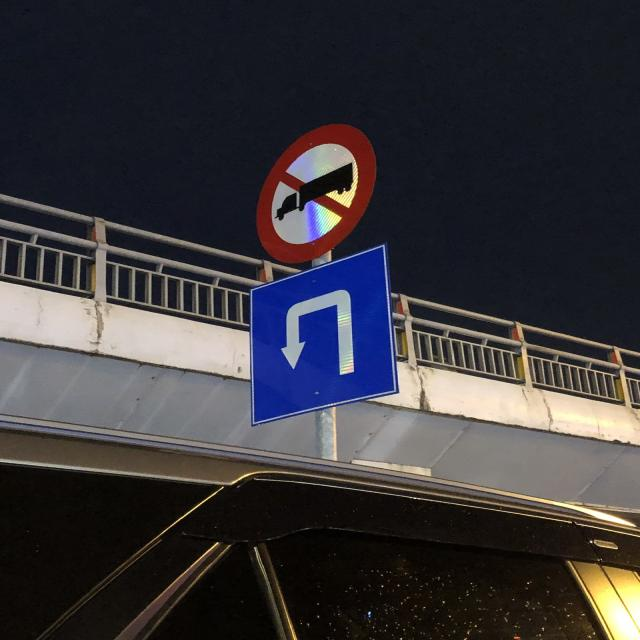Bien bao cam xe so-mi ro-mooc: (222, 113, 395, 264)
